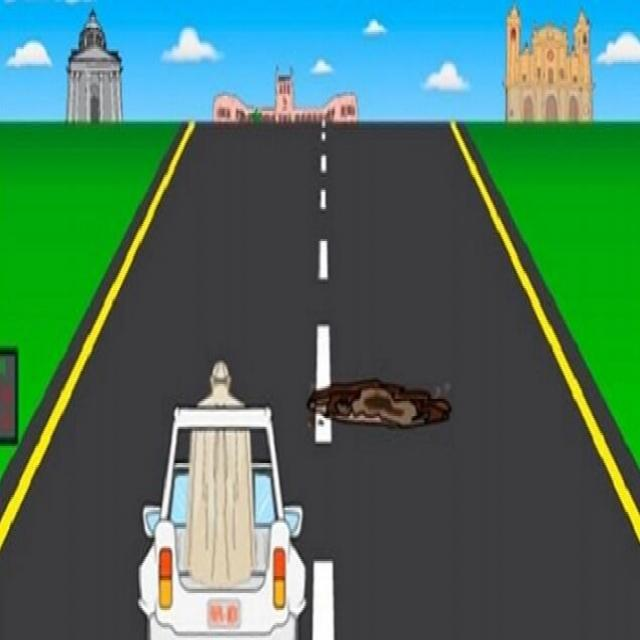Pothole: (287, 318, 464, 459)
